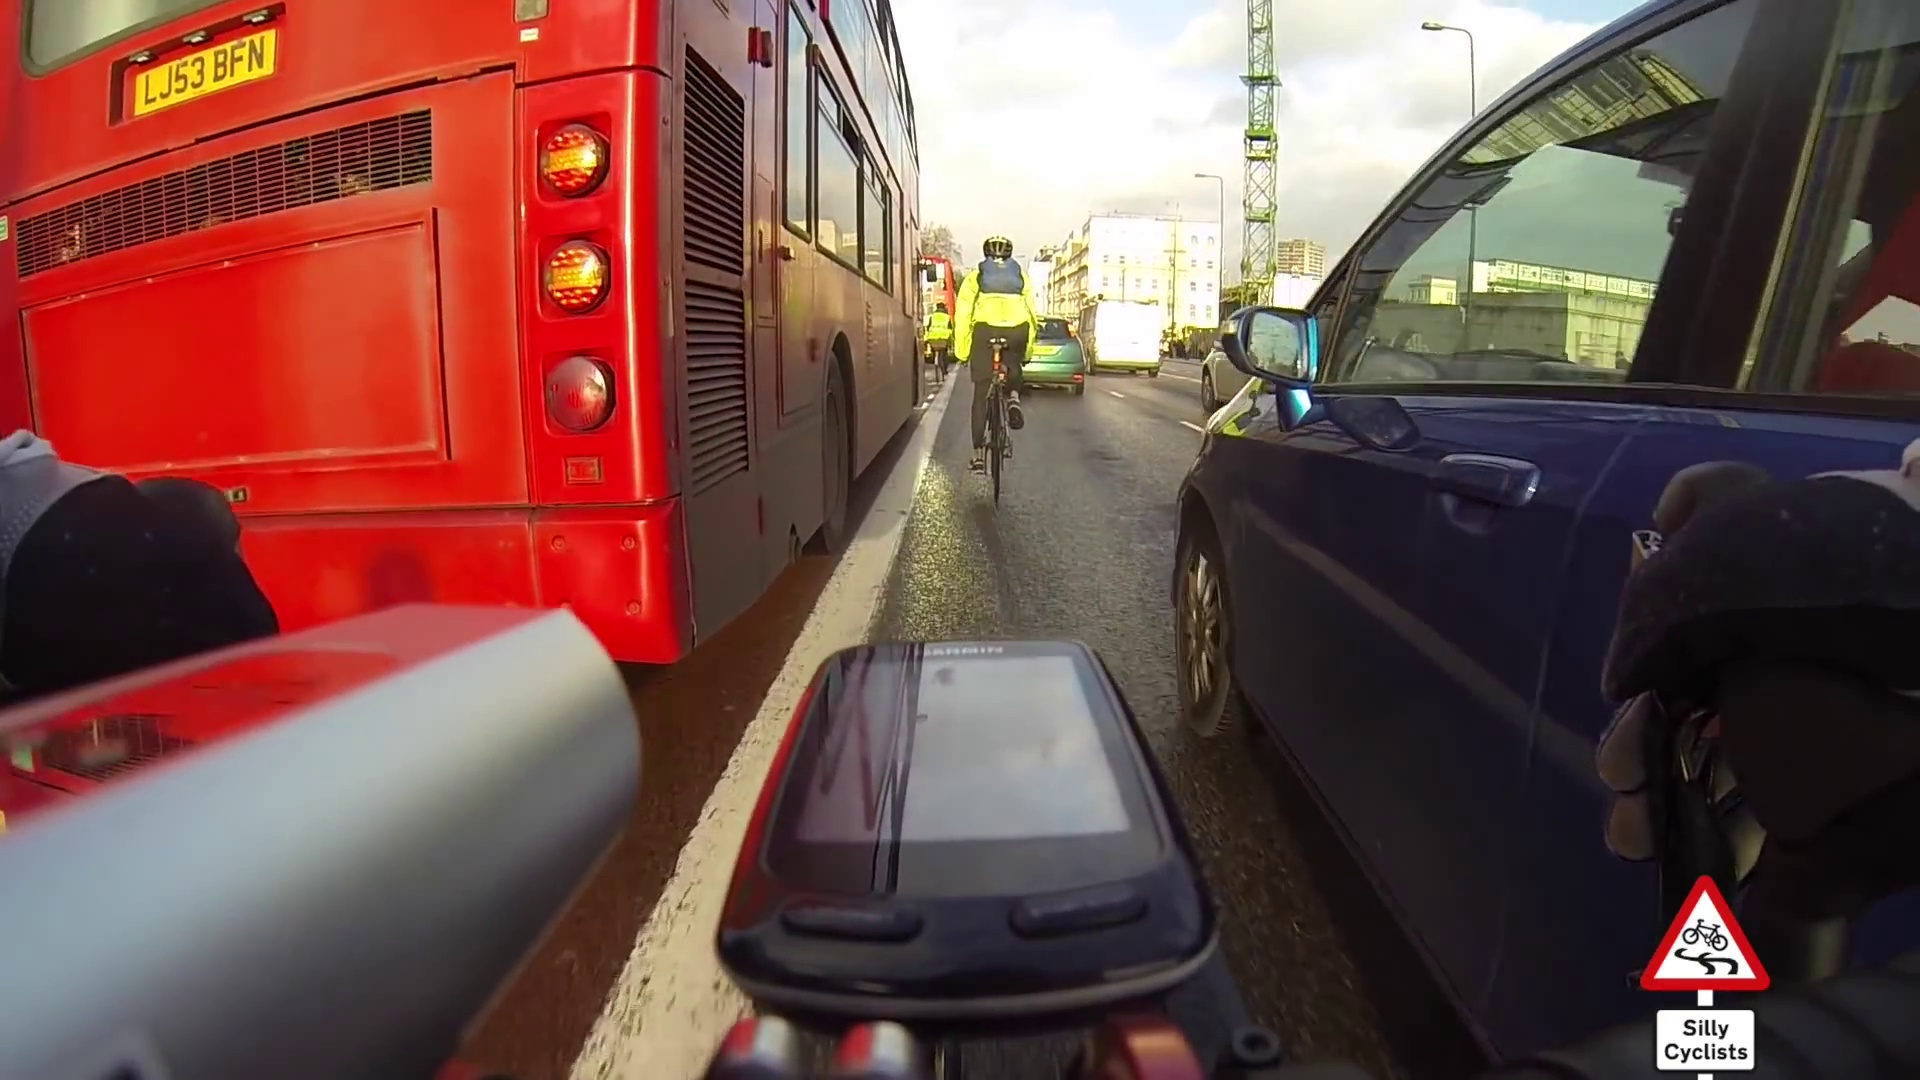cyclist_back: (933, 228, 1044, 524)
